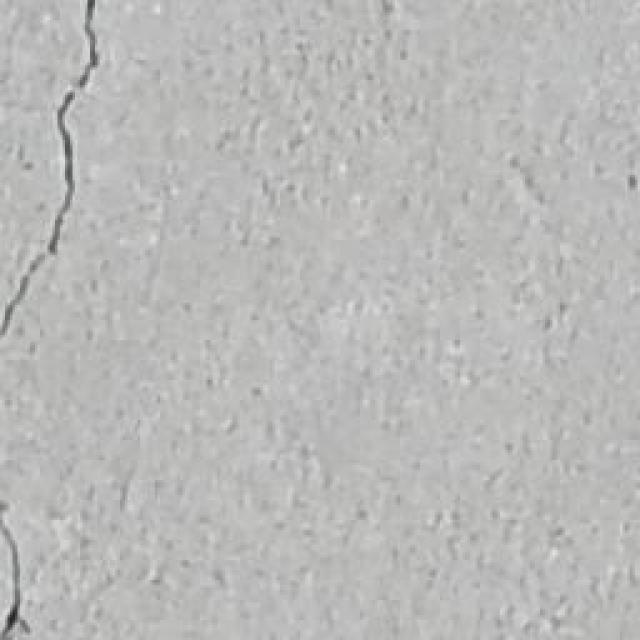concrete-crack: (0, 1, 106, 345)
